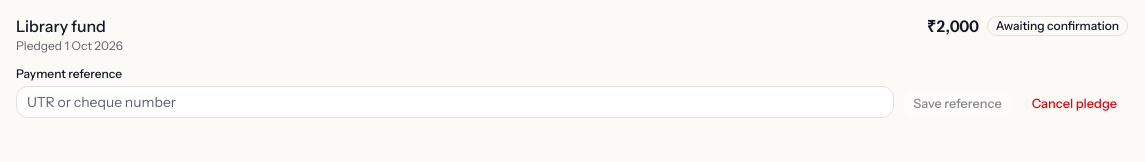
Test: MyDonations › shows a refusal
Click the button "Cancel pledge". click: point(1074, 104)
box: [1021,90,1128,118]
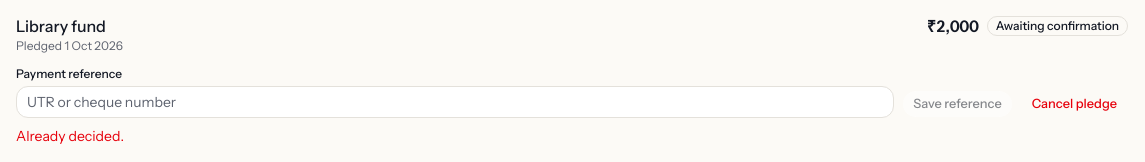
Expected: the message reads "Already decided.", [16,127,124,145]
